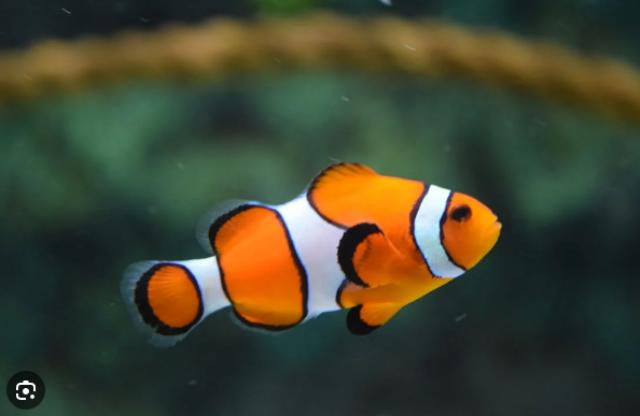Mulut: (473, 196, 517, 240)
Sirip Anal: (226, 296, 306, 348)
Sirip Dada: (330, 214, 406, 294)
Sirip Ekor: (111, 250, 221, 356)
Sirip Perut: (338, 296, 408, 346)
Sirip Punggung: (192, 150, 380, 256)
